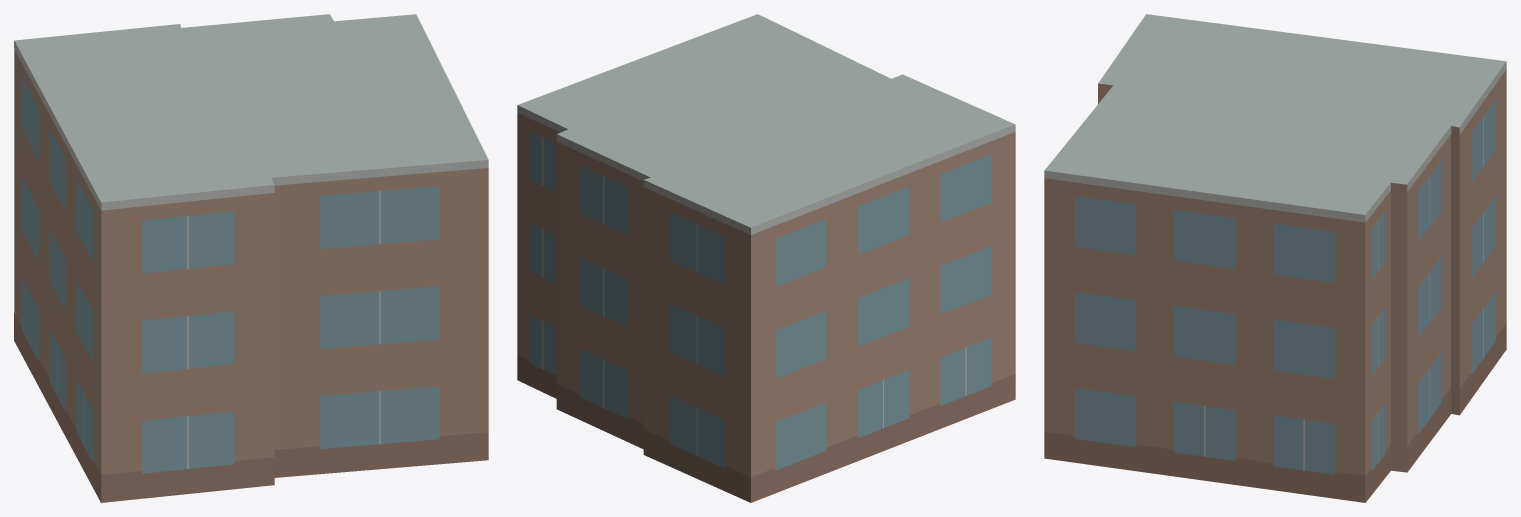
Rendered from survey-upis-32508812.glb.
3 renders of one model, left to right at view 1: azimuth 30°, elevation 25°; view 2: azimuth 150°, elevation 25°; view 3: azimuth 270°, elevation 25°, orthographic. The views are drawn at different scales.
Parts seen in each view (by area): view 1: survey-upis-32508812.tmp; view 2: survey-upis-32508812.tmp; view 3: survey-upis-32508812.tmp.
Part boxes in pixels (<box>): survey-upis-32508812.tmp: <box>14,14,488,502</box>; survey-upis-32508812.tmp: <box>517,14,1015,502</box>; survey-upis-32508812.tmp: <box>1044,14,1506,502</box>.
Bounding box in the file's own units: 13.71 × 9.15 × 13.32.
